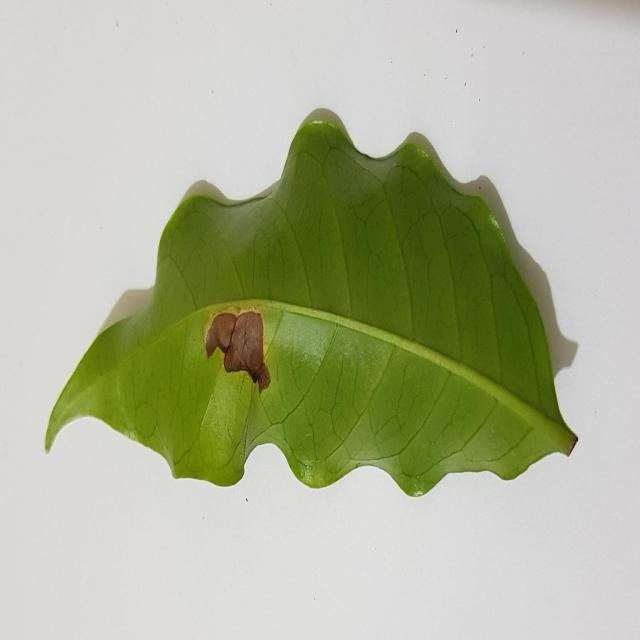Plaga-Minador: (42, 108, 576, 500)
